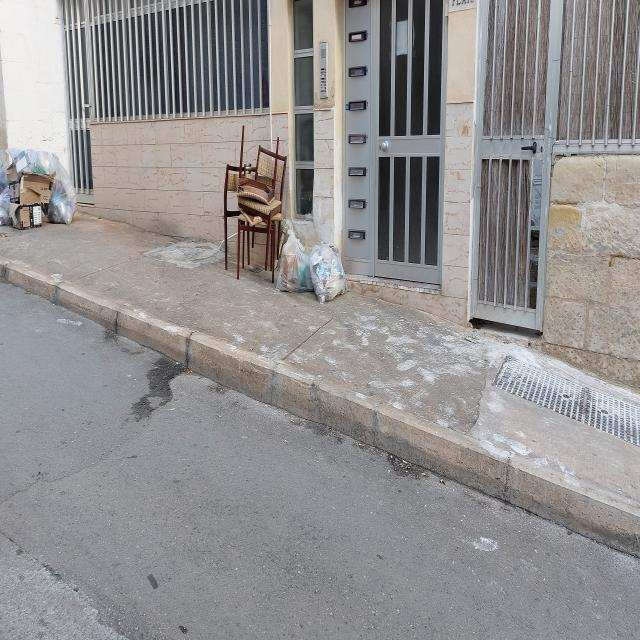Other: (223, 122, 289, 289), (7, 162, 57, 206), (9, 185, 50, 230)
Recycled Waste -Grey or Green Bag-: (31, 147, 80, 227), (310, 240, 353, 306), (276, 230, 314, 300), (1, 147, 31, 185), (1, 186, 13, 228)
